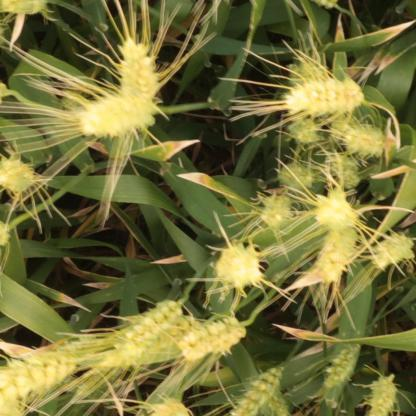whd: (104, 299, 186, 373), (0, 349, 77, 416), (68, 94, 158, 140), (113, 33, 164, 114), (174, 314, 249, 366), (277, 76, 366, 114), (309, 225, 358, 286), (207, 238, 267, 287), (223, 366, 282, 414), (319, 344, 363, 393), (364, 233, 416, 272), (338, 121, 389, 160), (314, 194, 359, 233), (324, 150, 366, 191), (0, 154, 40, 197), (365, 370, 400, 416), (254, 192, 296, 229), (274, 158, 318, 191), (284, 117, 324, 145), (139, 396, 193, 415), (284, 59, 324, 84), (0, 0, 52, 17)
